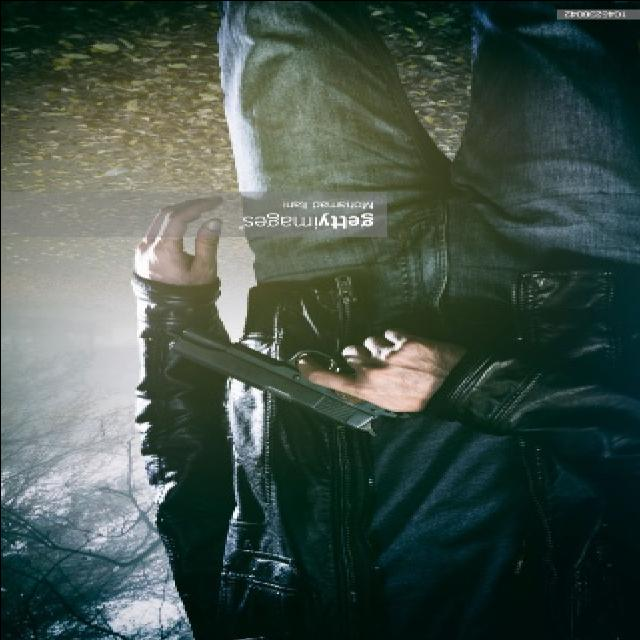handgun: (165, 317, 397, 443)
